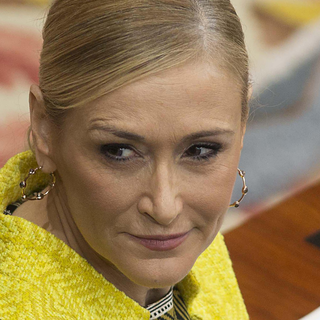eye: (94, 139, 144, 165), (177, 138, 225, 165)
